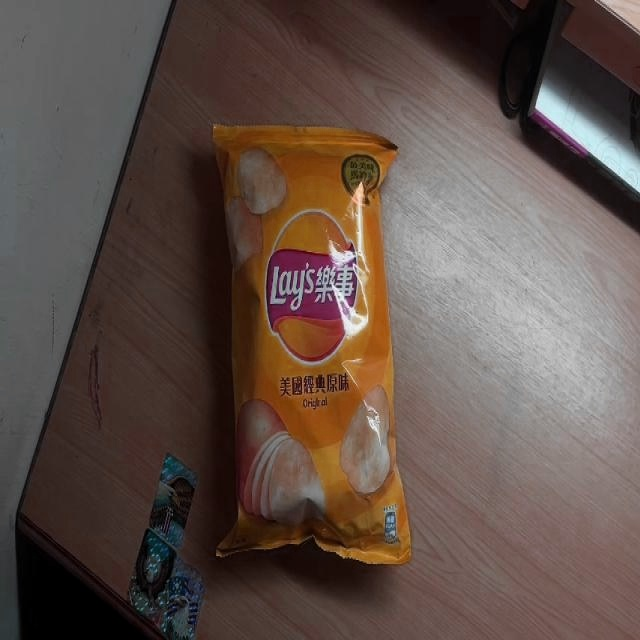Lay-s-original: (211, 122, 412, 566)
